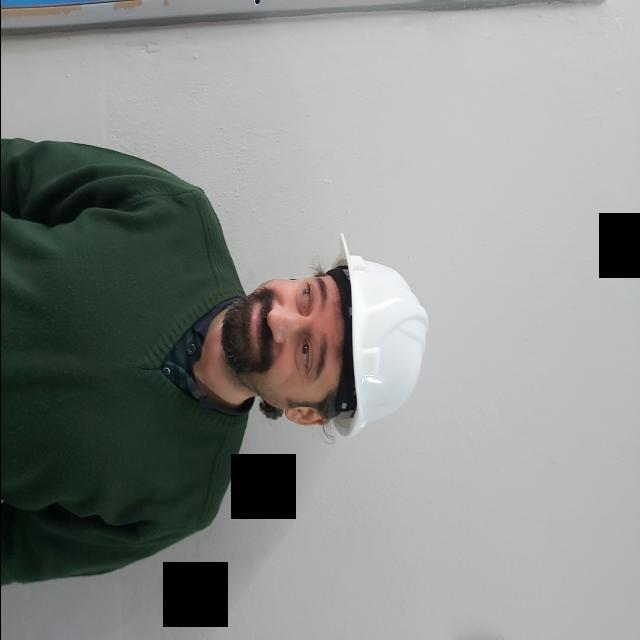helmet: (326, 232, 429, 438)
